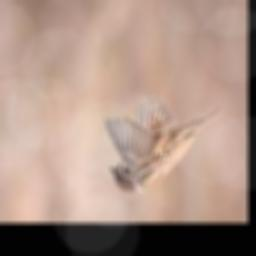Sparrow: (105, 94, 221, 194)
